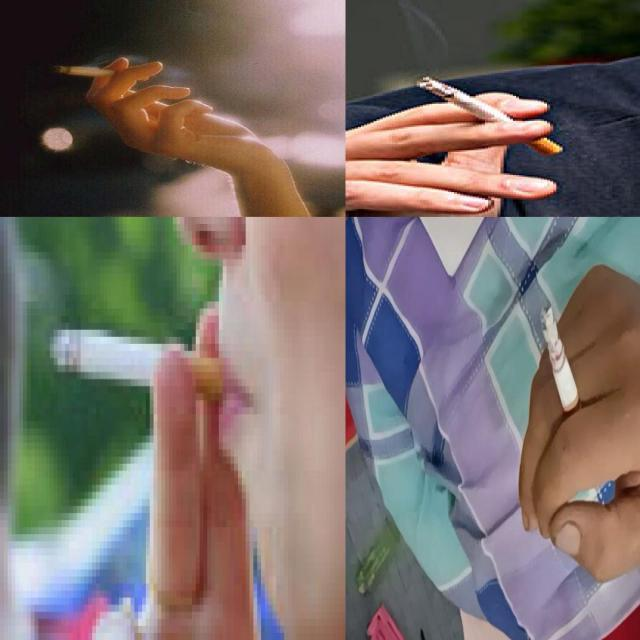smoking: (49, 325, 232, 405), (413, 75, 565, 156), (540, 304, 588, 439), (56, 64, 150, 82)
